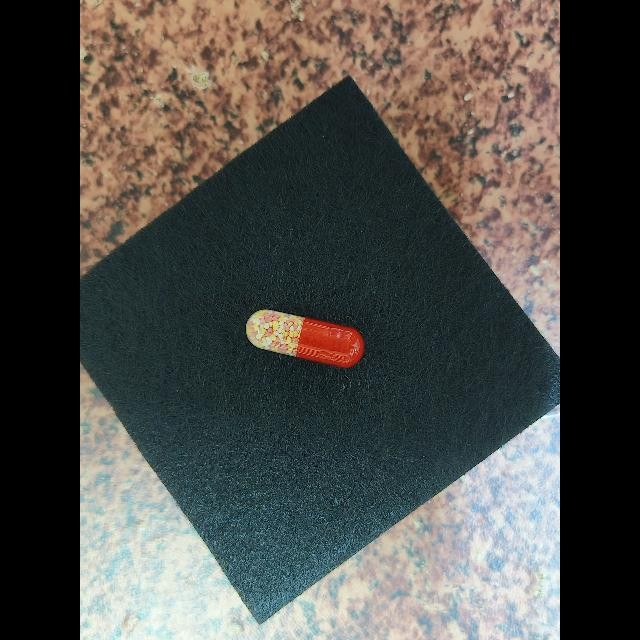Intact Capsule: (246, 309, 365, 368)
